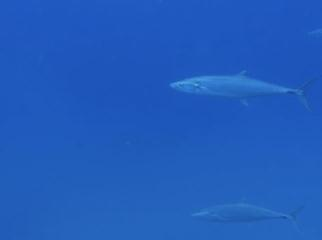Scombridae -Tunas-: (164, 62, 322, 112), (187, 196, 307, 235)
